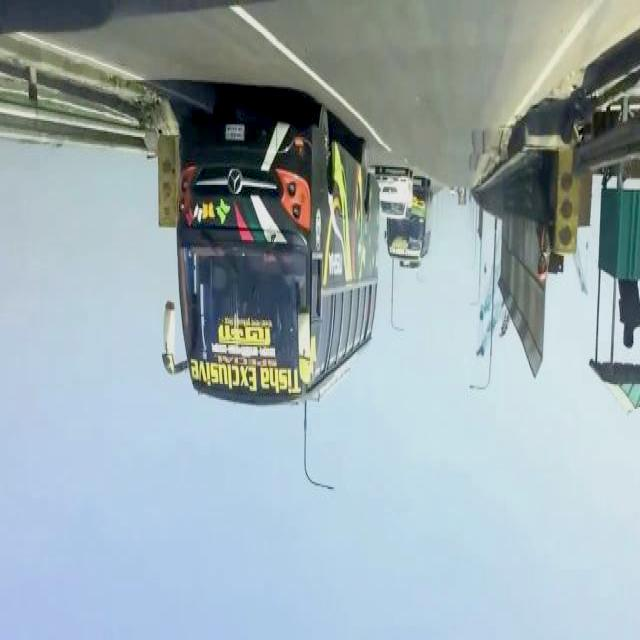white: (373, 169, 411, 221)
